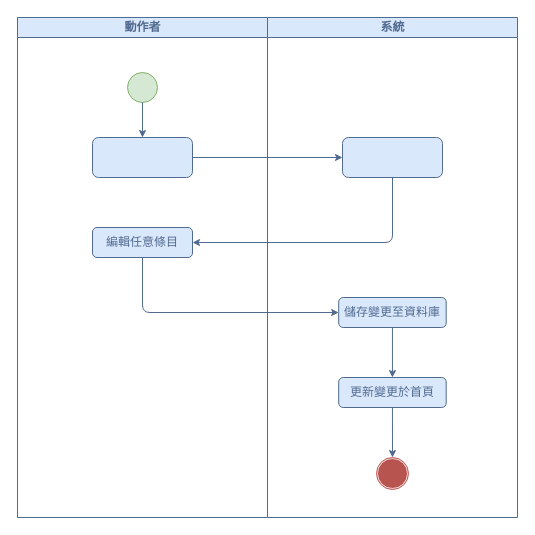
This 535x535 diagram has some shape labels left out. The centre of each missing label's shape, as x and y in pixels:
顯示所有條目 和編輯按鈕: the point at 392,157
點選編輯 常見問題: the point at 142,157
